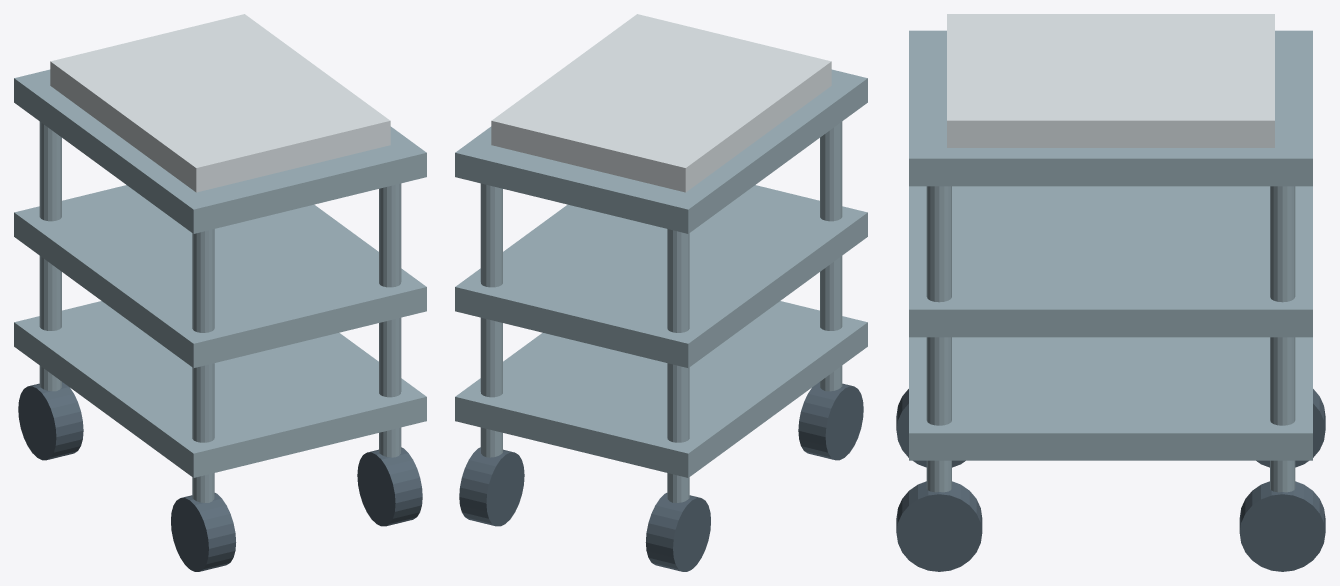
File: instrument_trolley.glb
3 renders of one model, left to right at view 1: azimuth 30°, elevation 25°; view 2: azimuth 150°, elevation 25°; view 3: azimuth 270°, elevation 25°, orthographic. The views are drawn at different scales.
Parts seen in each view (by area): view 1: steel_9, ivory_11, steel_8, steel_10, steel_7, steel_3, dark_6, dark_2, dark_0, steel_1; view 2: steel_9, ivory_11, steel_8, steel_10, steel_5, steel_1, dark_4, dark_0, dark_2, steel_3; view 3: steel_9, steel_8, ivory_11, steel_10, dark_4, dark_6, steel_5, steel_7, dark_0, dark_2.
Boxes of the visible parts, x1,y1,x2,y2 form: steel_9: [14, 185, 426, 367]; ivory_11: [50, 14, 390, 192]; steel_8: [14, 301, 426, 477]; steel_10: [14, 69, 426, 233]; steel_7: [379, 183, 401, 457]; steel_3: [192, 229, 214, 502]; dark_6: [357, 447, 422, 526]; dark_2: [171, 493, 236, 571]; dark_0: [18, 382, 83, 460]; steel_1: [39, 121, 61, 391]; steel_9: [455, 185, 867, 367]; ivory_11: [491, 14, 831, 192]; steel_8: [455, 301, 867, 477]; steel_10: [455, 69, 867, 233]; steel_5: [480, 183, 502, 457]; steel_1: [667, 229, 689, 502]; dark_4: [459, 447, 524, 526]; dark_0: [645, 493, 710, 571]; dark_2: [798, 382, 863, 460]; steel_3: [820, 121, 842, 391]; steel_9: [909, 186, 1312, 337]; steel_8: [909, 337, 1312, 460]; ivory_11: [947, 14, 1274, 147]; steel_10: [909, 30, 1312, 186]; dark_4: [1239, 481, 1325, 571]; dark_6: [896, 481, 982, 571]; steel_5: [1270, 186, 1295, 492]; steel_7: [926, 186, 951, 492]; dark_0: [1256, 389, 1325, 467]; dark_2: [896, 389, 965, 467].
Size of the model in its own units: 0.6 by 0.975 by 0.85.
